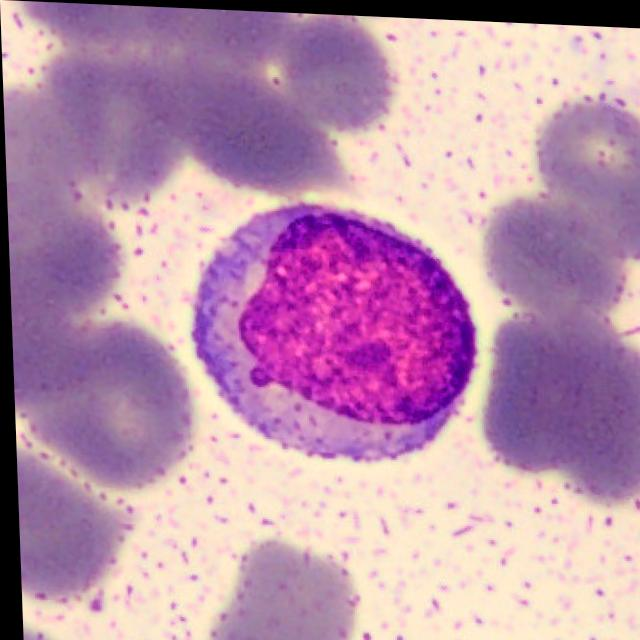Mieloblasto: (188, 203, 475, 461)
